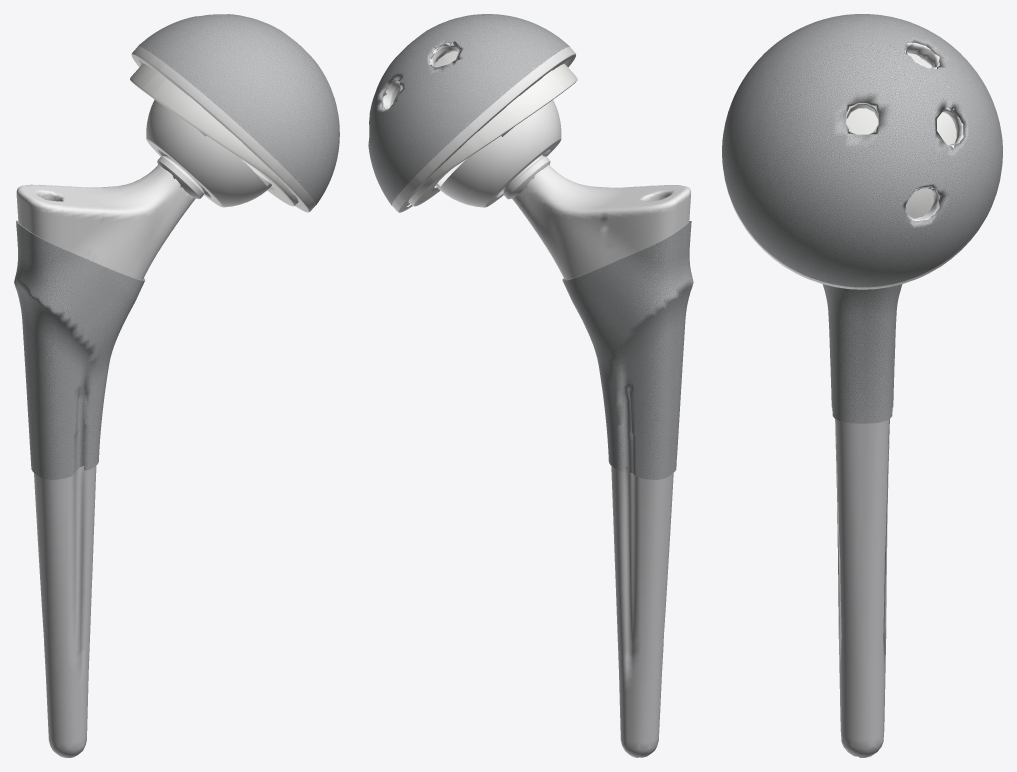
The model's file is tha_metal_lod1.glb.
3 renders of one model, left to right at view 1: azimuth 30°, elevation 25°; view 2: azimuth 150°, elevation 25°; view 3: azimuth 270°, elevation 25°, orthographic. The views are drawn at different scales.
Visible parts, largest first — view 1: stem, cup.003, head.002, liner.001; view 2: stem, cup.003, head.002, liner.001; view 3: cup.003, stem, liner.001.
Boxes of the visible parts, <box> form: stem: <box>14,153,206,757</box>; cup.003: <box>131,14,339,212</box>; head.002: <box>146,99,271,207</box>; liner.001: <box>130,61,299,206</box>; stem: <box>501,153,693,757</box>; cup.003: <box>368,14,575,212</box>; head.002: <box>435,100,561,207</box>; liner.001: <box>393,47,577,206</box>; cup.003: <box>722,14,1002,289</box>; stem: <box>822,284,902,757</box>; liner.001: <box>846,44,956,218</box>.
Size of the model in its own units: 0.0754 by 0.1658 by 0.0518.
Materials: 5 (1 with a texture image).
